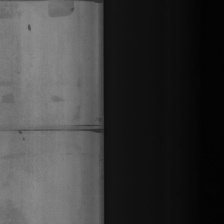crease: (7, 115, 103, 140)
